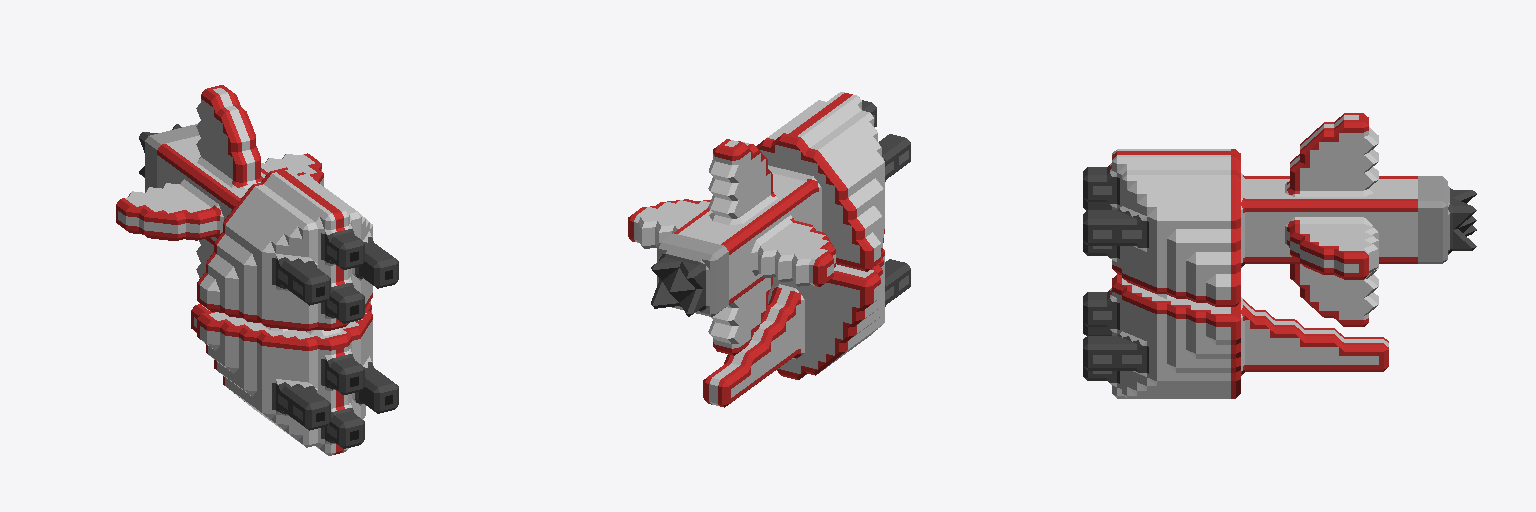
The picture shows the model from 3 angles: view 1: azimuth 30°, elevation 25°; view 2: azimuth 150°, elevation 25°; view 3: azimuth 270°, elevation 25°; orthographic projection.
Bounding box in the file's own units: 23 × 31 × 40.
1 materials, 1 textured.